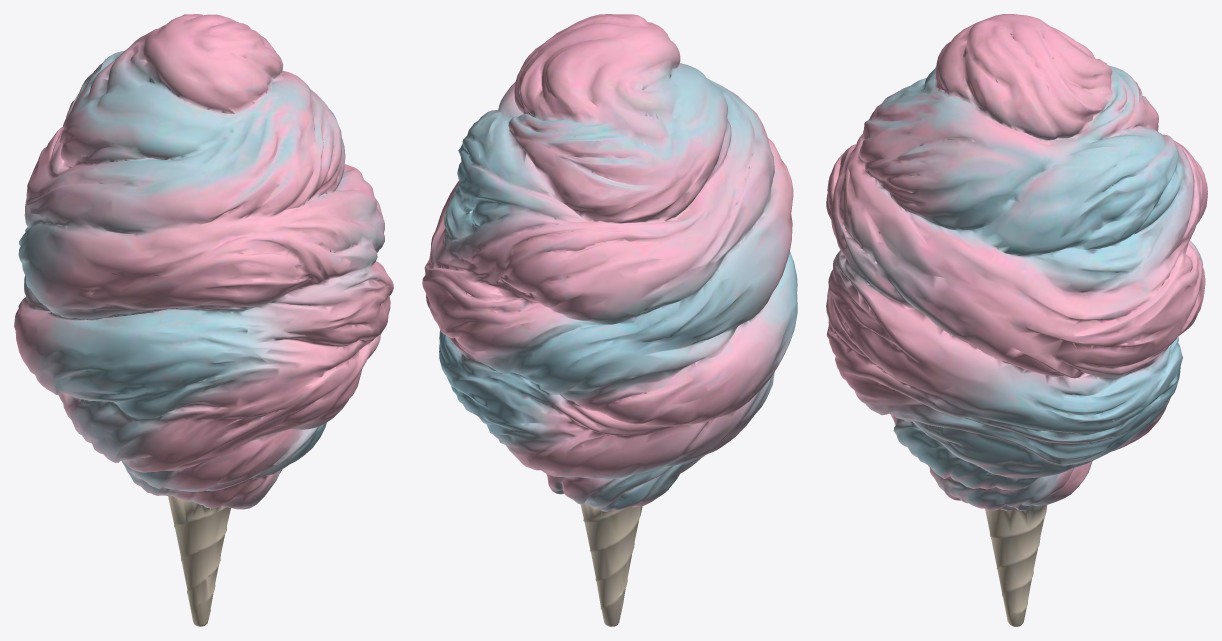
3 renders of one model, left to right at view 1: azimuth 30°, elevation 25°; view 2: azimuth 150°, elevation 25°; view 3: azimuth 270°, elevation 25°, orthographic.
Bounding box in the file's own units: 1.08 × 1.9 × 1.09.
Materials: 1 (1 with a texture image).
